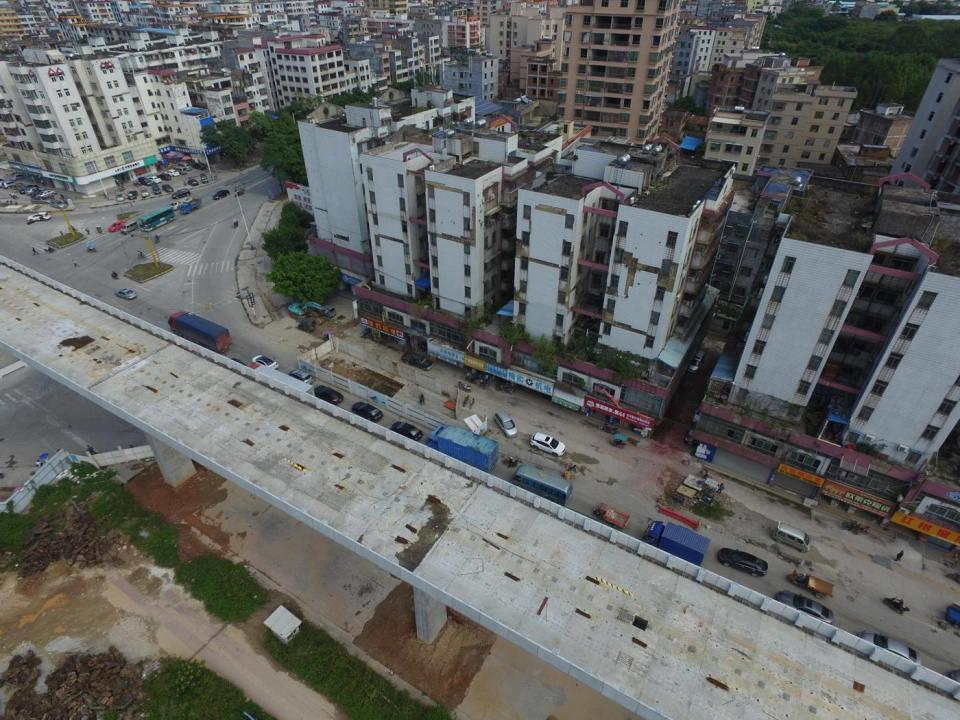bus: (514, 465, 573, 507), (139, 207, 174, 231)
car: (858, 631, 922, 668), (776, 589, 836, 625), (718, 548, 768, 577), (529, 432, 566, 456), (351, 401, 382, 423), (315, 384, 344, 407), (494, 411, 518, 437), (390, 421, 421, 441), (286, 370, 313, 386), (694, 401, 713, 423), (252, 354, 278, 370), (686, 349, 704, 372), (685, 422, 702, 445), (114, 288, 136, 300), (26, 212, 51, 221), (109, 220, 126, 233), (171, 189, 190, 200), (212, 190, 229, 199), (50, 200, 66, 208), (138, 177, 152, 186), (147, 176, 161, 184), (156, 173, 171, 180), (199, 173, 208, 184), (187, 178, 199, 186), (140, 187, 149, 197), (152, 184, 161, 194), (192, 163, 204, 170), (128, 190, 137, 199), (165, 170, 178, 176), (162, 185, 173, 192), (116, 193, 124, 202)
truck: (428, 427, 500, 473), (167, 310, 236, 358), (642, 522, 711, 568), (245, 365, 314, 408), (402, 352, 432, 370), (180, 198, 201, 215), (168, 197, 192, 210)
van: (772, 521, 810, 553), (316, 303, 335, 318), (122, 221, 138, 232), (178, 162, 192, 170), (173, 166, 186, 174)
